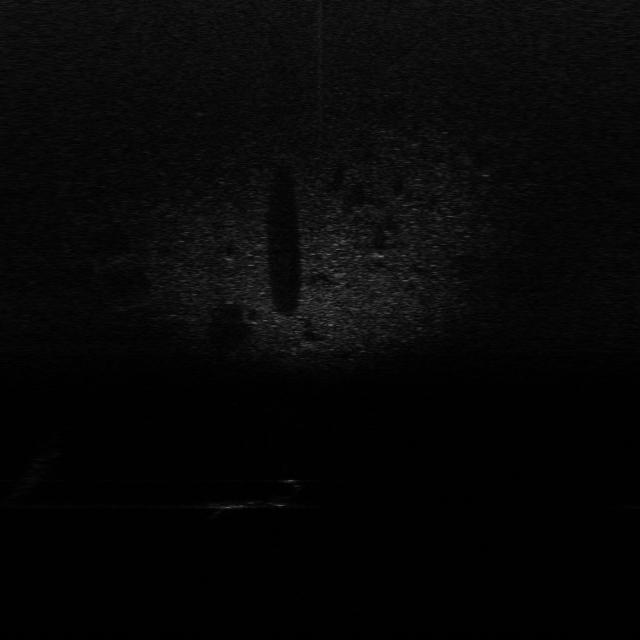square cage: (203, 486, 262, 518)
tyre: (266, 474, 306, 509)
